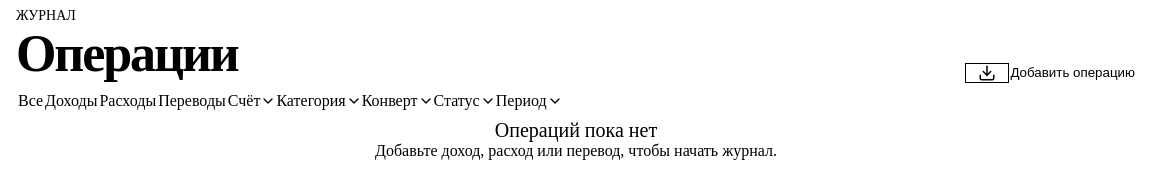
Test case: operations page (v2 journal) › separates an empty result from an empty journal
What coordinates should you click on to do the following:
click the button with test id "type-tab-EXPENSE"
I would click on:
 (128, 101)
Its box is [99,86,156,116].
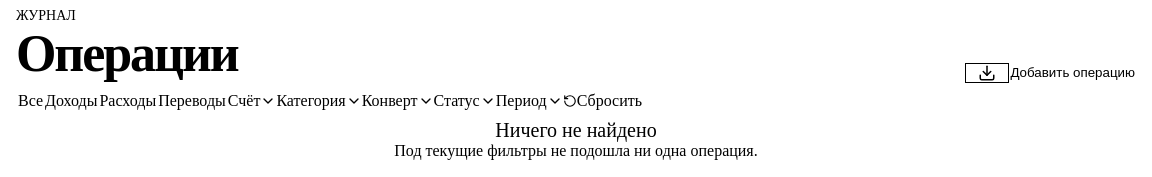
Now the text "Ничего не найдено" is shown, box [495,119,657,142]
